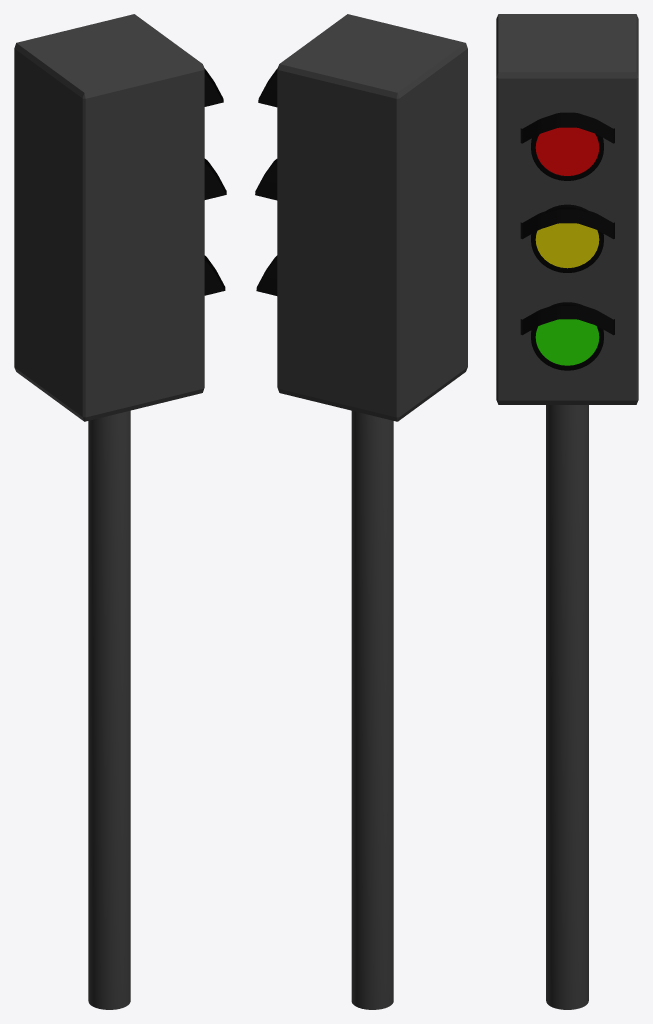
File: Stoplight.fbx
3 renders of one model, left to right at view 1: azimuth 30°, elevation 25°; view 2: azimuth 150°, elevation 25°; view 3: azimuth 270°, elevation 25°, orthographic.
Visible parts, largest first — view 1: Cube, Metal, Hat.002, Hat.003; view 2: Cube, Metal, Hat.002, Hat.003; view 3: Cube, Metal, Red Light, Red Light.002, Red Light.001, Hat.002, Hat.003, Hat.001, Base.002, Base.003, Base.001.
Boxes of the visible parts, box(x1,y1,x2,y2) form: Cube: box(14, 14, 204, 421); Metal: box(88, 410, 130, 1009); Hat.002: box(204, 158, 226, 199); Hat.003: box(204, 255, 225, 295); Cube: box(277, 14, 467, 421); Metal: box(351, 411, 393, 1009); Hat.002: box(255, 159, 277, 200); Hat.003: box(256, 255, 277, 295); Cube: box(496, 14, 638, 404); Metal: box(546, 405, 588, 1009); Red Light: box(535, 127, 599, 175); Red Light.002: box(535, 319, 599, 365); Red Light.001: box(535, 223, 599, 268); Hat.002: box(520, 209, 614, 239); Hat.003: box(520, 306, 614, 335); Hat.001: box(520, 112, 614, 143); Base.002: box(531, 204, 603, 272); Base.003: box(531, 302, 603, 370); Base.001: box(531, 112, 603, 180).
Bounding box in the file's own units: 386 × 2244 × 303.
